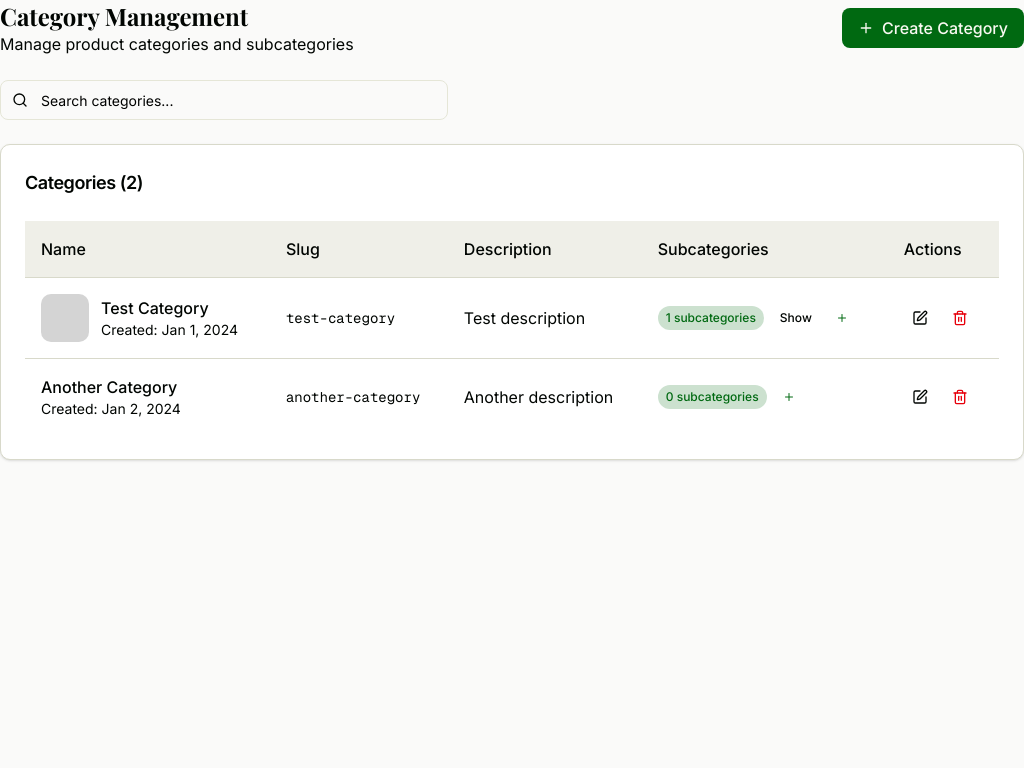
Test case: CategoryManager › displays validation errors for empty required fields
The image size is (1024, 768).
// Open modal - click the first "Create Category" button (the one in the header)
Click the button "Create Category": {"x": 933, "y": 28} top-left (842, 8), bottom-right (1023, 48)
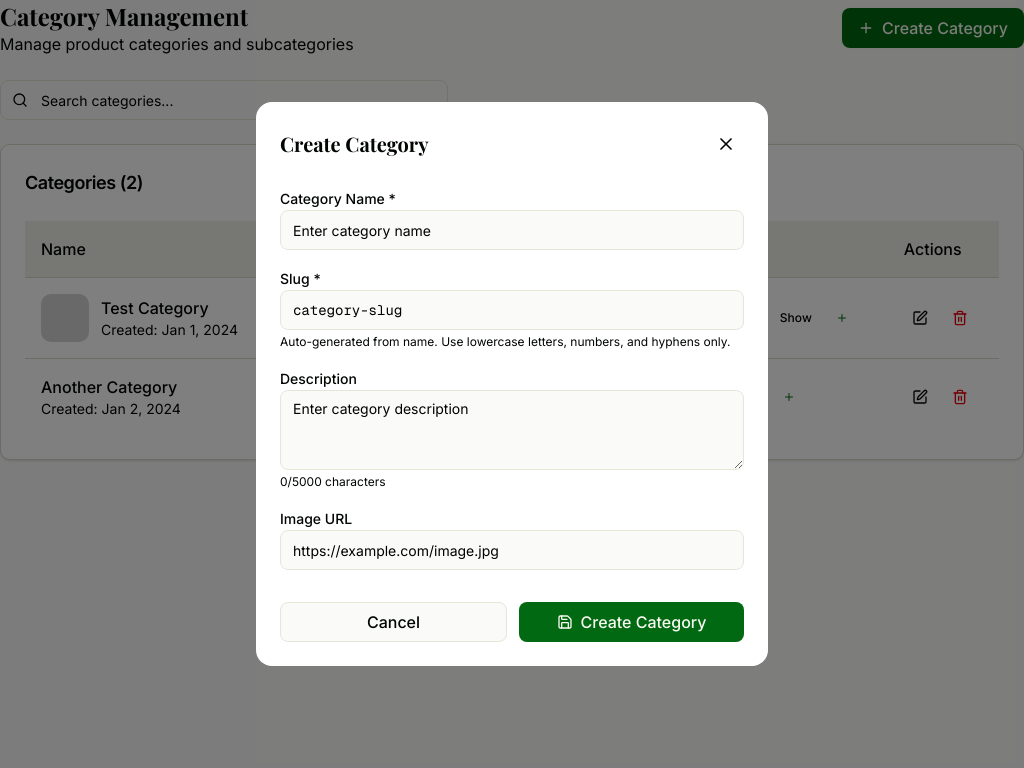
Expected: the field labelled "Category Name *" is shown
Clear the field labelled "Category Name *": {"x": 512, "y": 230} top-left (280, 210), bottom-right (744, 250)
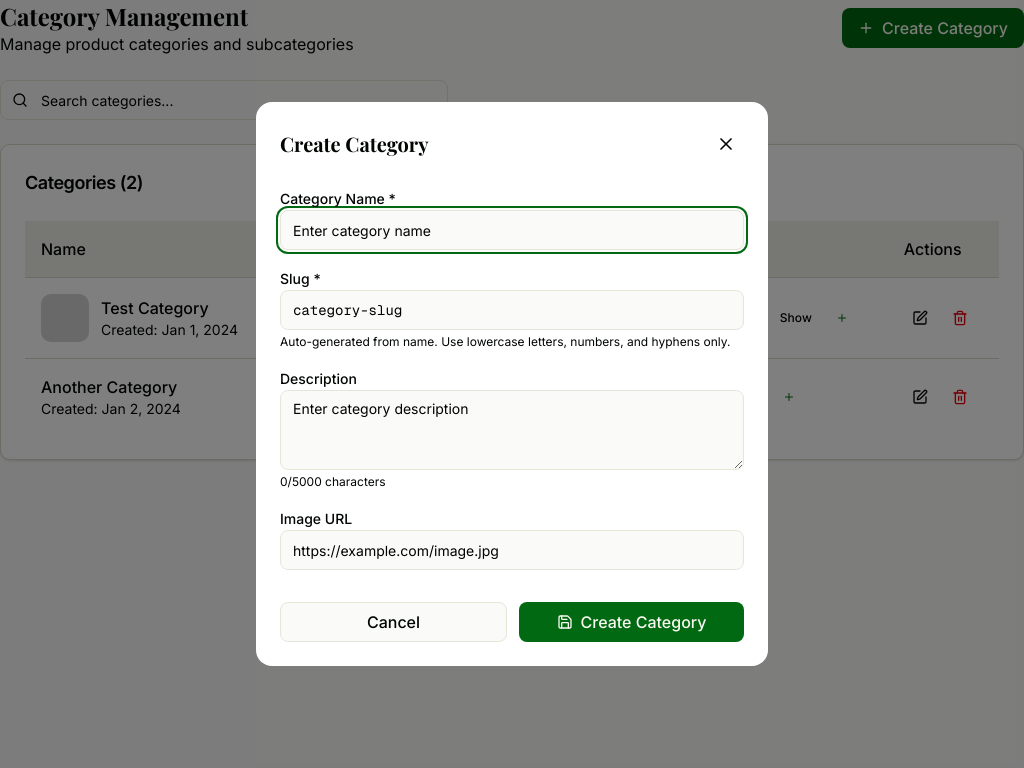
Clear the field labelled "Slug *": {"x": 512, "y": 310} top-left (280, 290), bottom-right (744, 330)
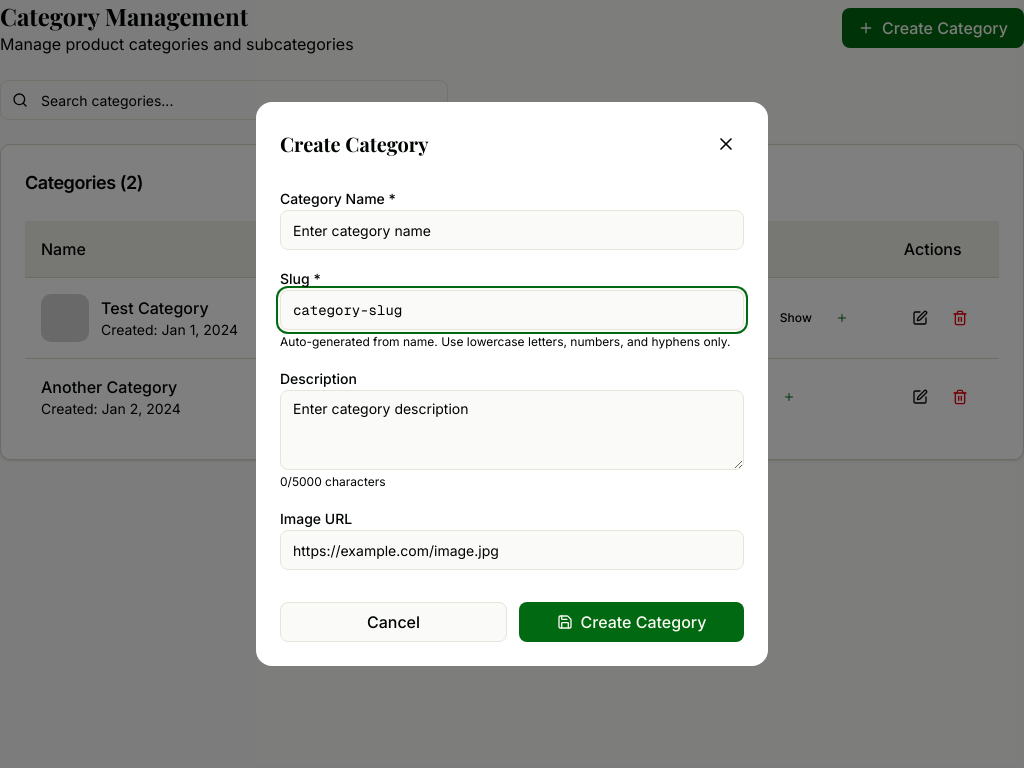
// Find and click the submit button (the second "Create Category" button in the modal)
Click the button "Create Category": {"x": 632, "y": 622} top-left (519, 602), bottom-right (744, 642)
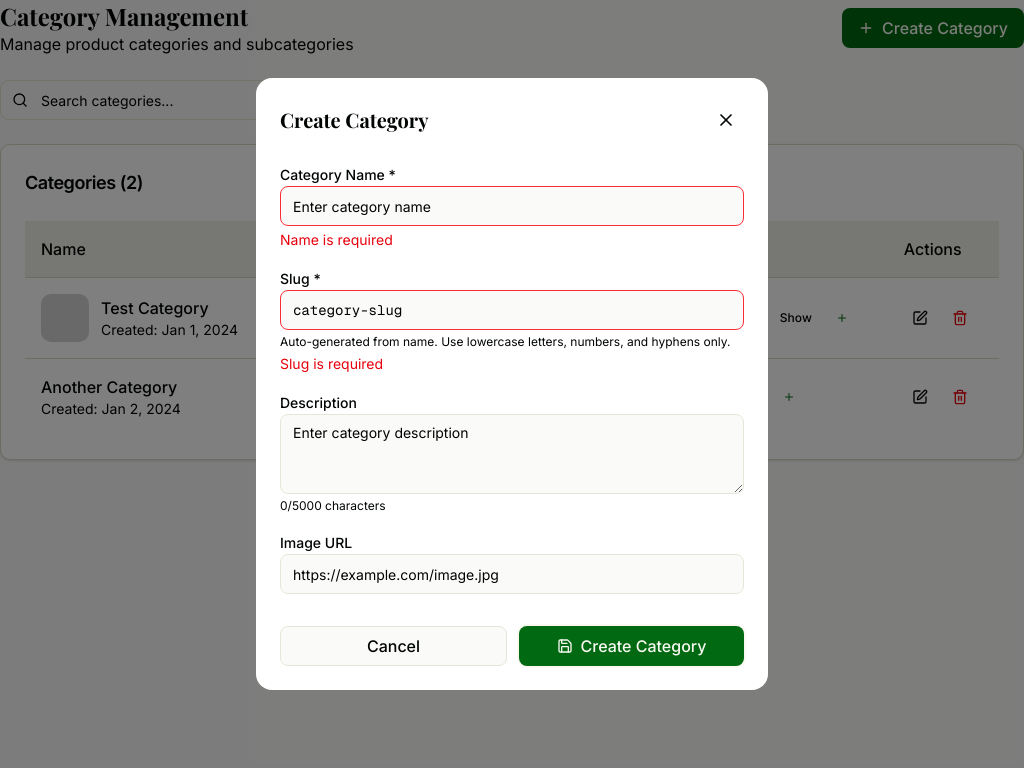
Expected: the text "Name is required" is shown, top-left (280, 231), bottom-right (393, 248)
Expected: the text "Slug is required" is shown, top-left (280, 355), bottom-right (383, 372)
